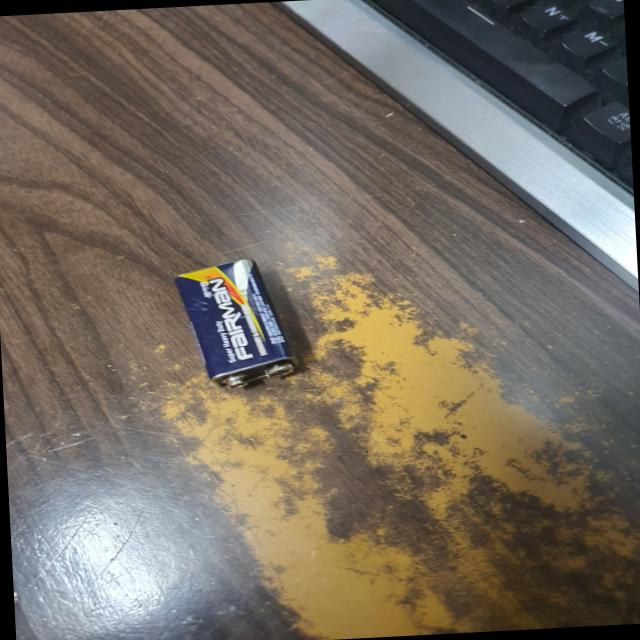battery-etc-etc: (157, 250, 316, 400)
